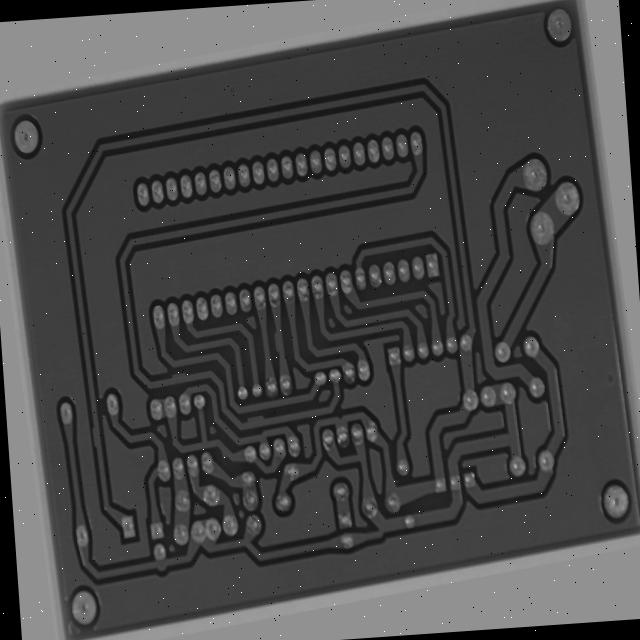spur: (233, 413, 261, 437), (70, 401, 84, 438), (268, 322, 282, 354), (203, 445, 220, 470), (158, 355, 178, 375)
